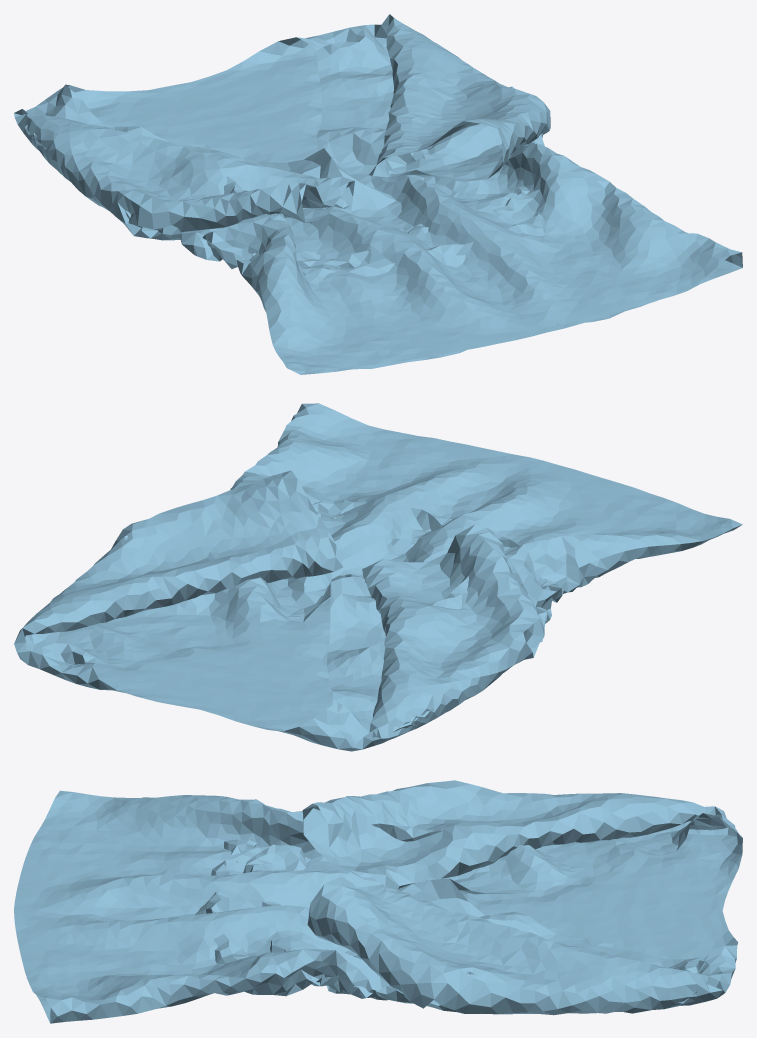
File: frame_00.glb
3 views of the same model, one above another, from view 1: azimuth 30°, elevation 25°; view 2: azimuth 150°, elevation 25°; view 3: azimuth 270°, elevation 25° (orthographic). The views are drawn at different scales.
Parts seen in each view (by area): view 1: frame_00.obj; view 2: frame_00.obj; view 3: frame_00.obj.
Boxes of the visible parts, <box> form: frame_00.obj: <box>14,14,742,374</box>; frame_00.obj: <box>14,403,742,751</box>; frame_00.obj: <box>14,780,742,1023</box>.
Bounding box in the file's own units: 1.26 × 0.2226 × 1.72.
